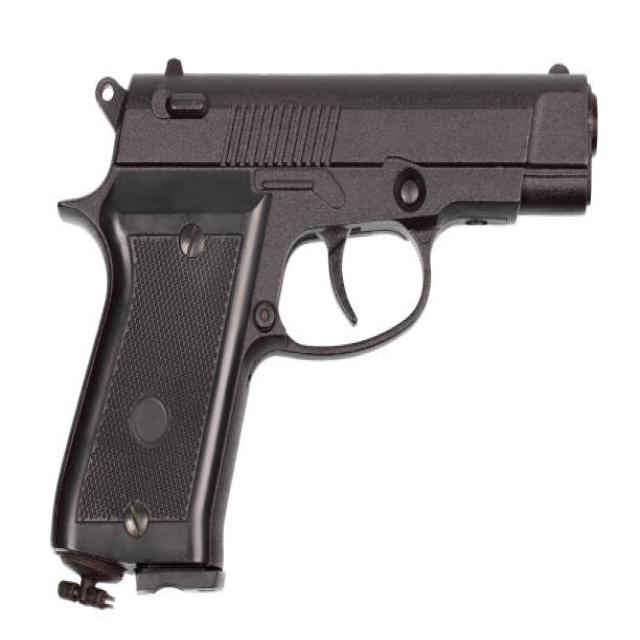pistol: (46, 52, 605, 614)
